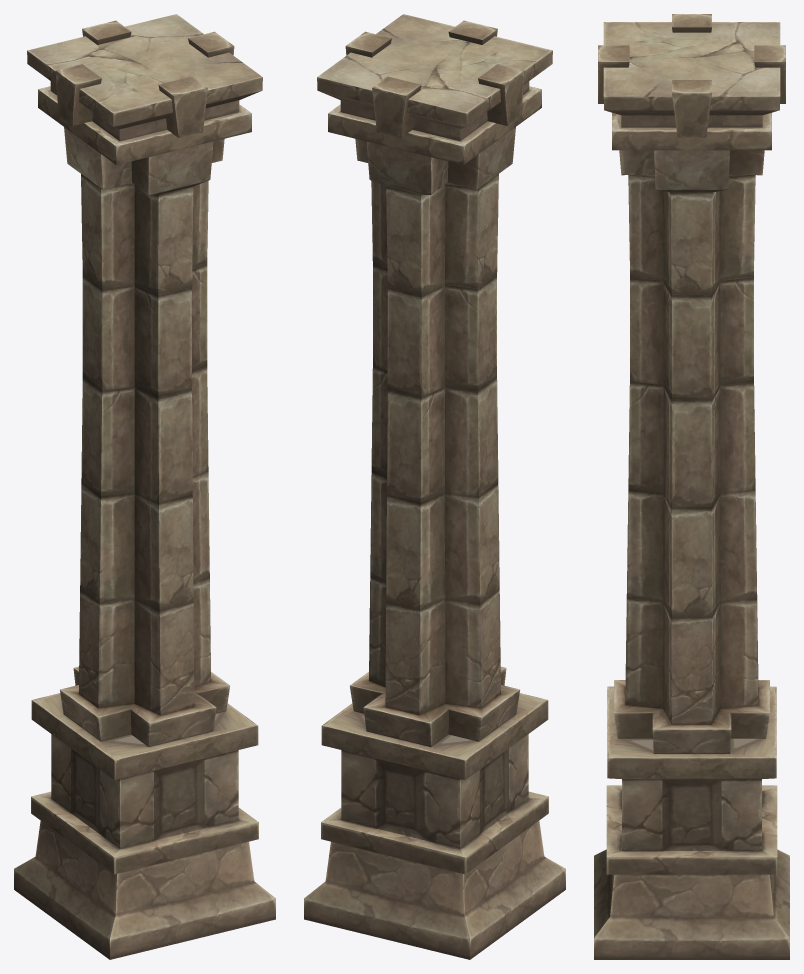
File: Column_01_lower.fbx
The picture shows the model from 3 angles, left to right: view 1: azimuth 30°, elevation 25°; view 2: azimuth 150°, elevation 25°; view 3: azimuth 270°, elevation 25°; orthographic projection. The views are drawn at different scales.
Parts seen in each view (by area): view 1: Column_01; view 2: Column_01; view 3: Column_01.
Boxes of the visible parts, left/top/right/bottom form: Column_01: left=14, top=14, right=275, bottom=959; Column_01: left=304, top=14, right=565, bottom=959; Column_01: left=594, top=14, right=789, bottom=959.
Size of the model in its own units: 122 by 594 by 122.
